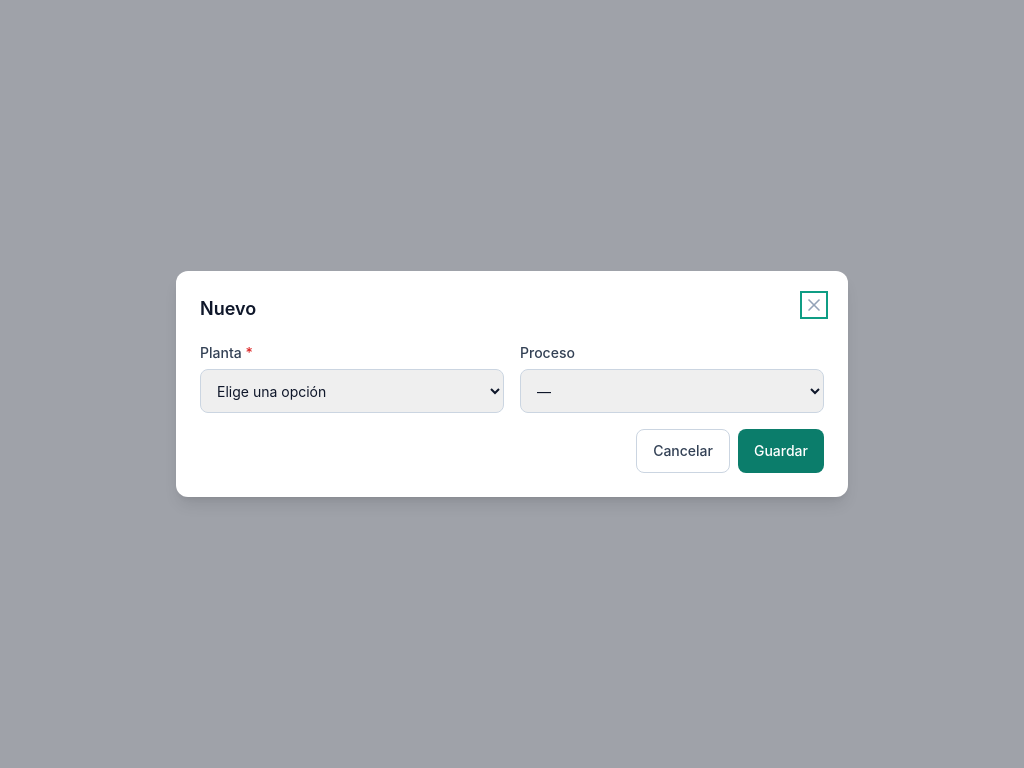
Test: un select obligatorio › si no se elige, lo dice y no guarda
This screenshot has width=1024, height=768.
Click the button "Guardar" at [781, 451], box [738,429,824,473]
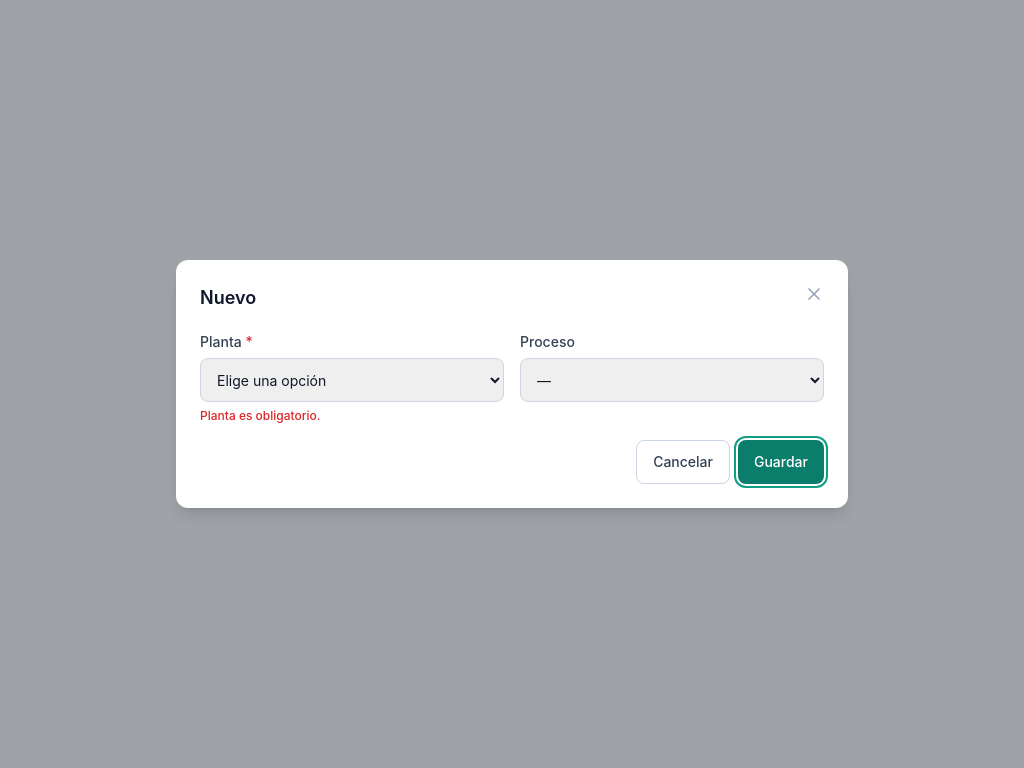
Now the text "Planta es obligatorio." is shown, box [200,408,320,423]
